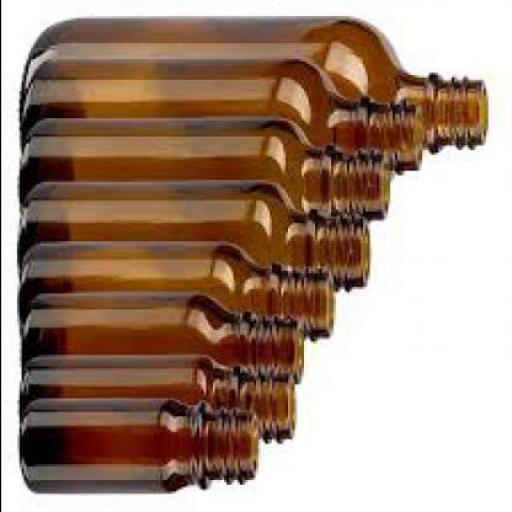glass: (18, 16, 488, 155), (20, 57, 424, 173), (18, 178, 370, 288), (20, 116, 392, 218), (18, 238, 336, 340), (20, 291, 304, 382), (20, 353, 296, 441), (18, 393, 260, 492)
